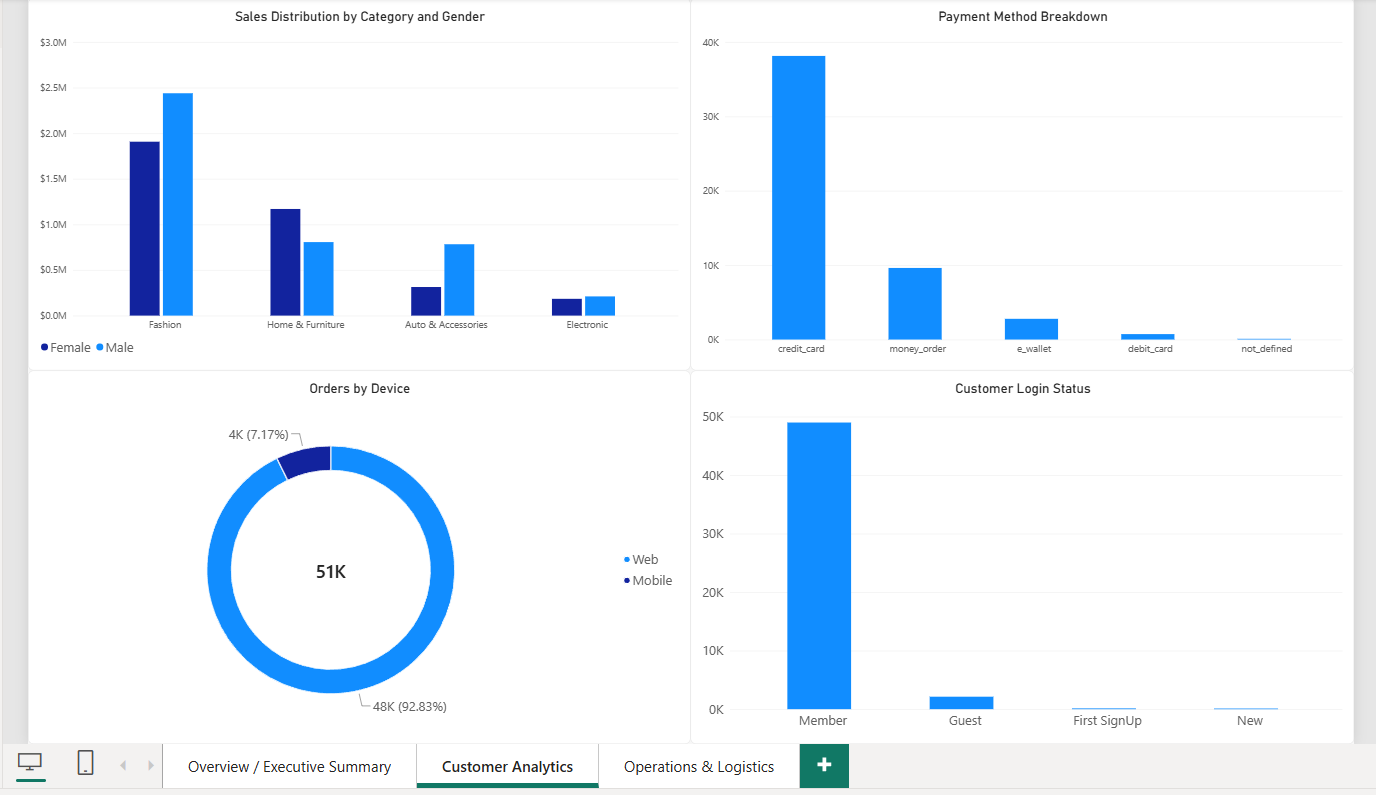

What the dashboard file says about the page in this screenshot:
{"tool":"powerbi","page":{"name":"Customer Analytics","canvas":[1920,1080],"ordinal":1},"visuals":[{"type":"donutChart","title":"Orders by Device","fields":{"Category":["Dim_Customers.Device_Type"],"Y":["_Measures.Total Orders"]},"box":[0,539.3,959.1,541.1],"z":0},{"type":"donutChart","title":"Sales Distribution by Category and Gender","fields":{"Category":["Dim_Customers.Gender"],"Y":["_Measures.Total Orders"]},"box":[0,0,959.1,539.3],"z":1000},{"type":"clusteredColumnChart","title":"Customer Login Status","fields":{"Category":["Dim_Customers.Customer_Login_type"],"Y":["_Measures.Total Orders"]},"box":[959.1,539.3,960.9,541.1],"z":2000},{"type":"clusteredColumnChart","title":"Payment Method Breakdown","fields":{"Category":["Fact_Sales.Payment_method"],"Y":["_Measures.Total Orders"]},"box":[959.1,0,960.9,539.3],"z":3000}]}

Visuals, with their boxes on the page's 1920x1080 design canvas (x1, y1, x2, y2). These are canvas units, not pixel positions in the 1376x795 screenshot, which may show the page scaled, cropped or inside an application window:
"Orders by Device" donutChart: 0,539,959,1080
"Sales Distribution by Category and Gender" donutChart: 0,0,959,539
"Customer Login Status" clusteredColumnChart: 959,539,1920,1080
"Payment Method Breakdown" clusteredColumnChart: 959,0,1920,539
